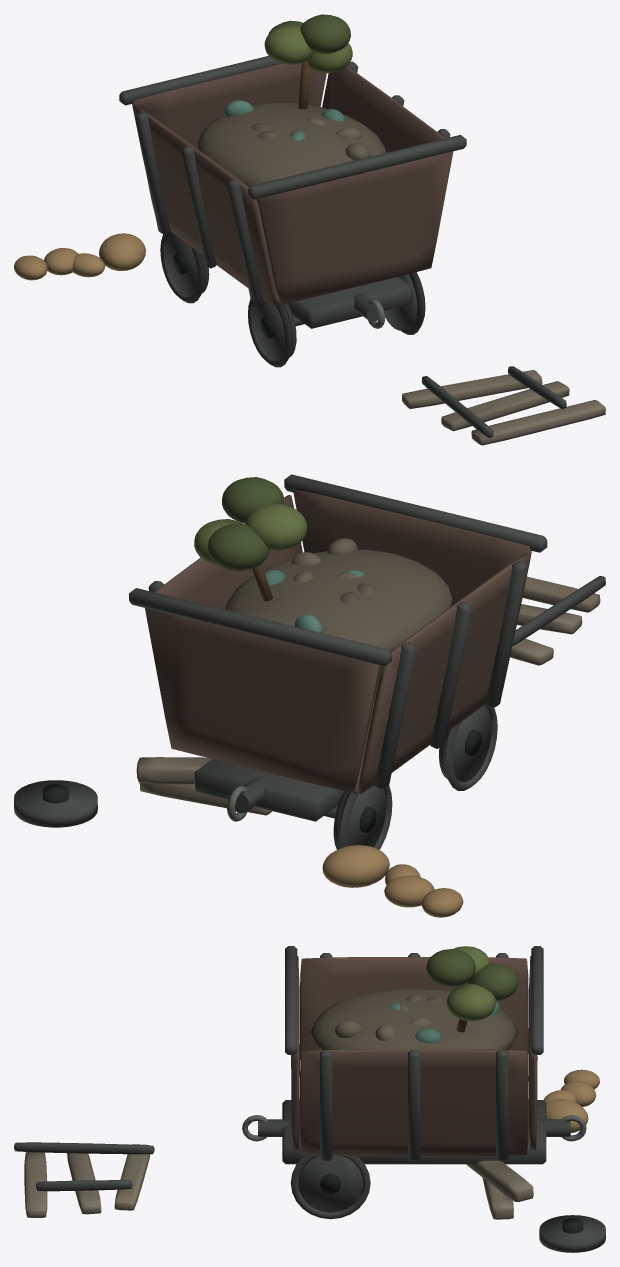
The model's file is tram_bogie_b_lod1.glb.
3 renders of one model, top to bottom at view 1: azimuth 30°, elevation 25°; view 2: azimuth 150°, elevation 25°; view 3: azimuth 270°, elevation 25°, orthographic. The views are drawn at different scales.
Visible parts, largest first — view 1: Surface.001; view 2: Surface.001; view 3: Surface.001.
Boxes of the visible parts, x1,y1,x2,y2 form: Surface.001: (14, 14, 605, 445); Surface.001: (14, 474, 605, 917); Surface.001: (14, 946, 605, 1252).
Size of the model in its own units: 4.65 by 3.26 by 6.73.
